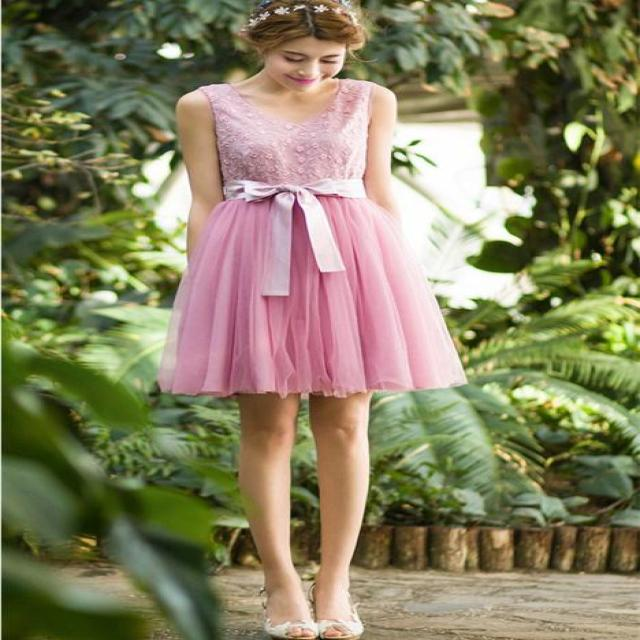vest dress: (167, 81, 466, 396)
